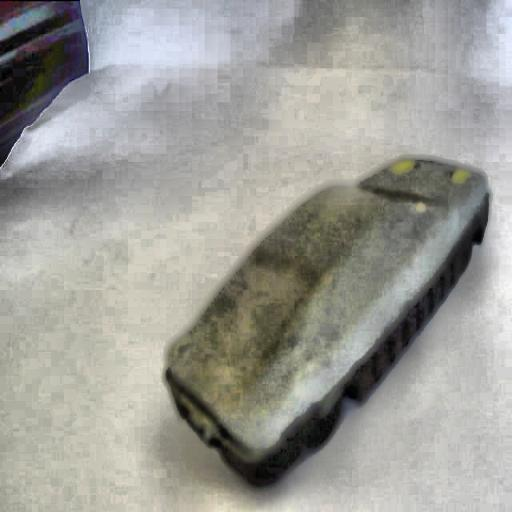normal_car: (160, 158, 491, 494)
